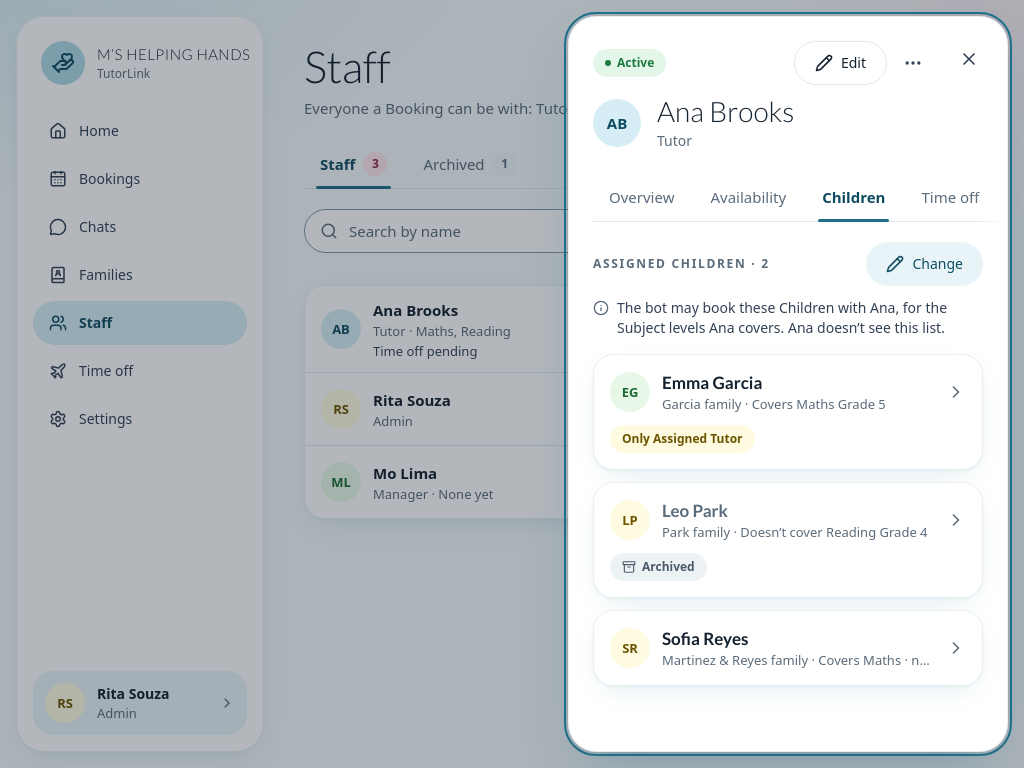
Staff › Children: the Change sheet › marks the Children they'd be the only Tutor of, live
Click the button "Change" at (925, 264), box x1=866 y1=242 x2=983 y2=286
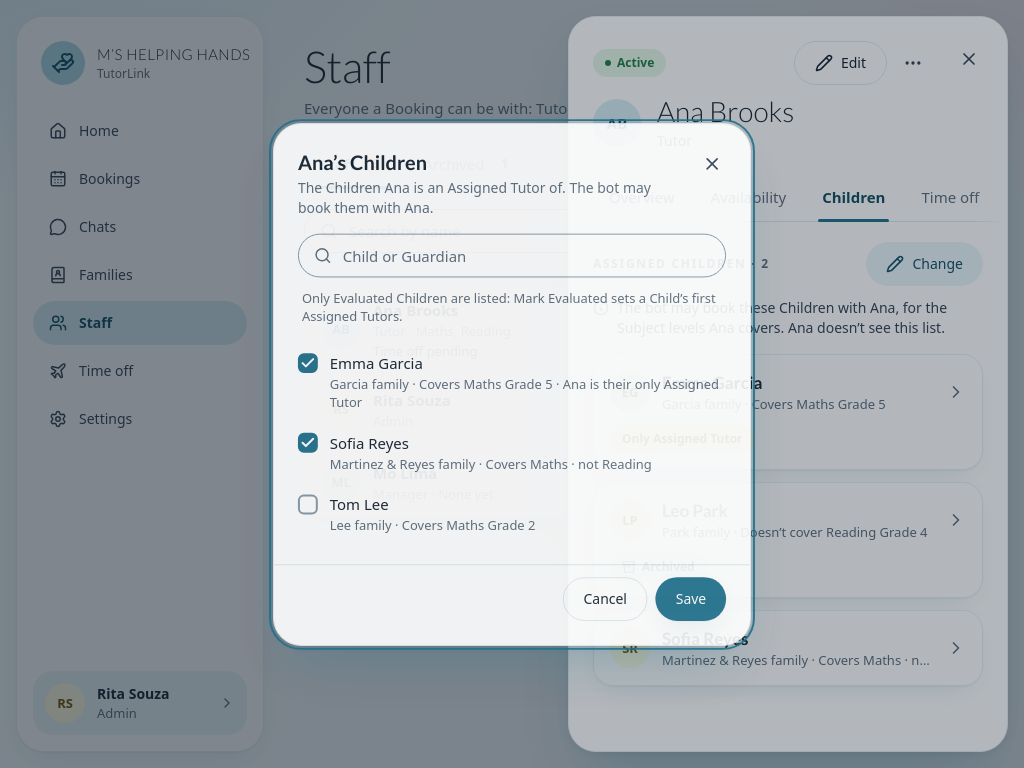
expect the checkbox labelled "Emma Garcia" is shown: met, box x1=297 y1=353 x2=317 y2=373
expect the text "Garcia family · Covers Maths Grade 5 · Ana is their only Assigned Tutor" is shown: met, box x1=329 y1=374 x2=727 y2=410
expect the checkbox labelled "Tom Lee Lee family · Covers Maths Grade 2" is not checked: met, box x1=297 y1=494 x2=317 y2=514
